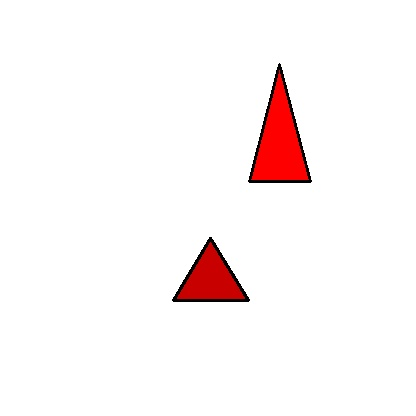triangle: (249, 64, 310, 181), (173, 238, 248, 300)
